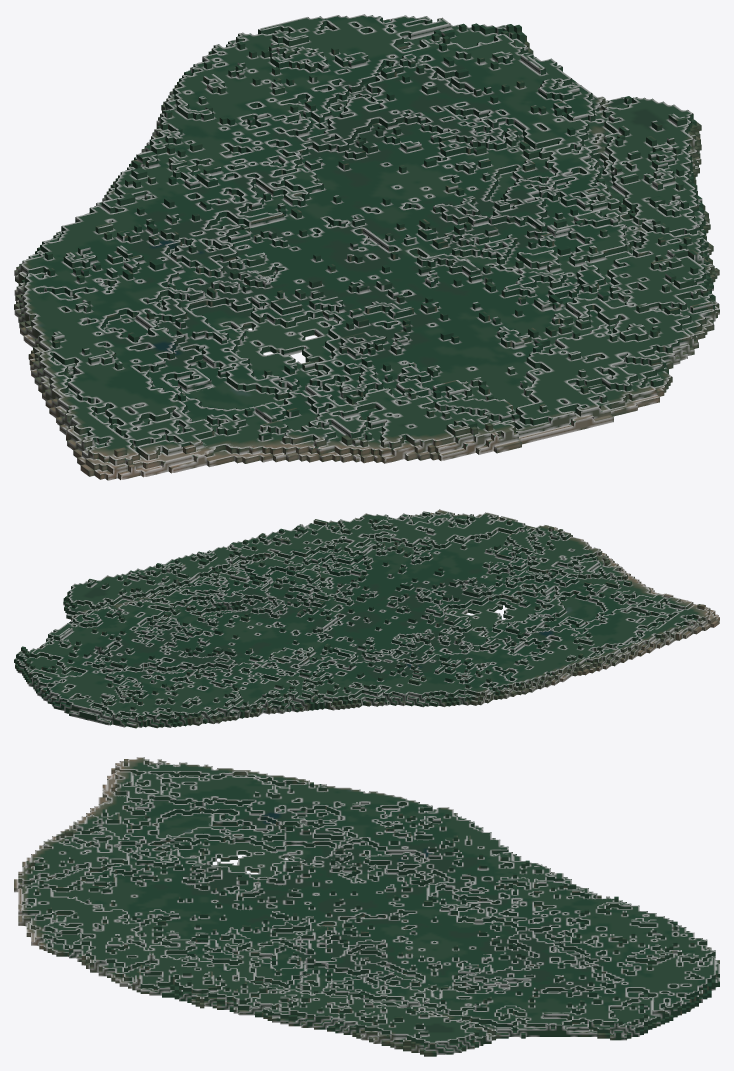
File: ilhaBatativo.fbx
3 renders of one model, top to bottom at view 1: azimuth 30°, elevation 25°; view 2: azimuth 150°, elevation 25°; view 3: azimuth 270°, elevation 25°, orthographic. The views are drawn at different scales.
Parts seen in each view (by area): view 1: ilhaBatativo; view 2: ilhaBatativo; view 3: ilhaBatativo.
Part boxes in pixels (x1,y1,x2,y2): ilhaBatativo: [14, 14, 719, 480]; ilhaBatativo: [14, 509, 719, 728]; ilhaBatativo: [14, 757, 719, 1056].
Size of the model in its own units: 16.3 by 0.4 by 16.7.
